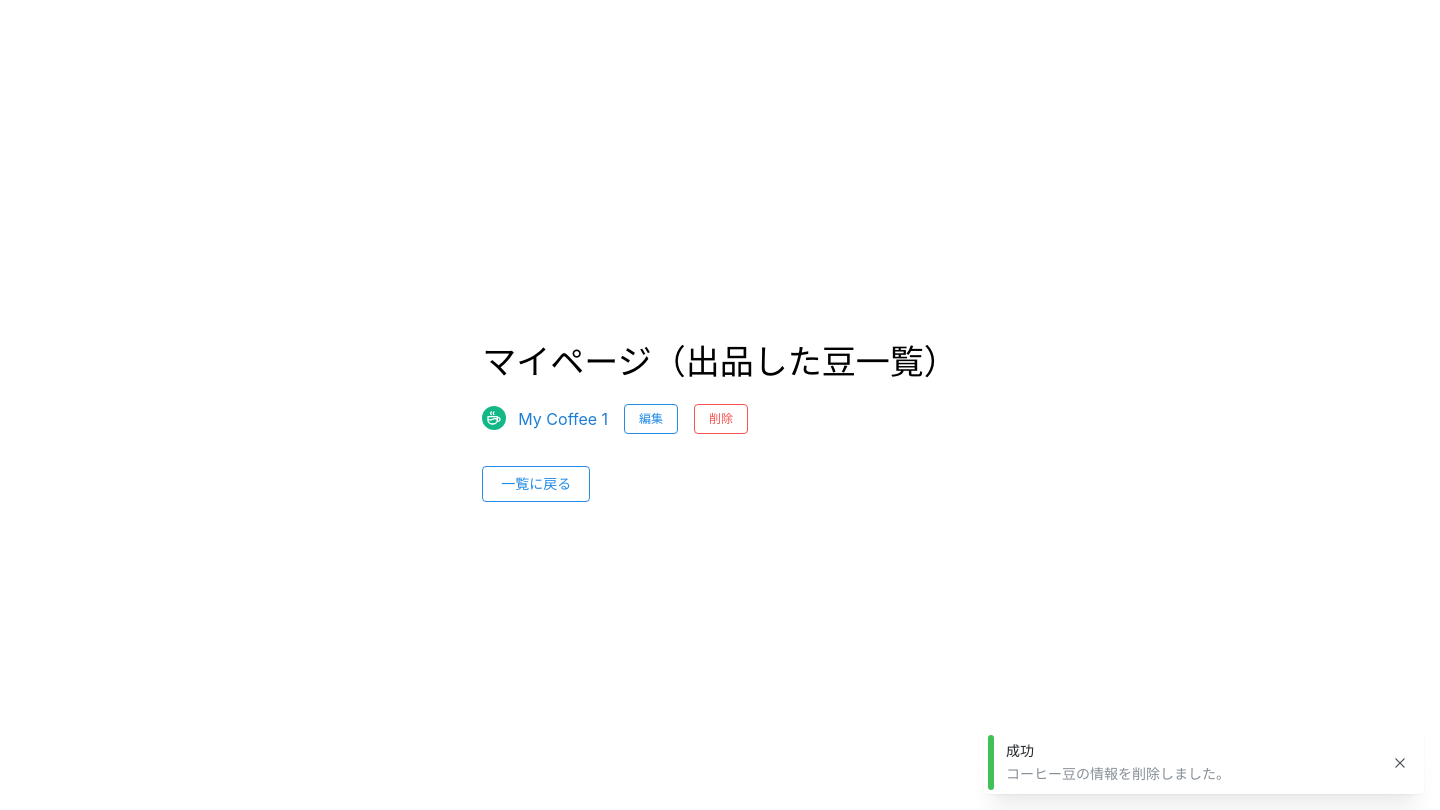
Test: MyBeansPage › 豆の削除処理が失敗し、エラー通知が表示される
Expected: the text "My Coffee 1" is shown, [518, 409, 608, 429]
# 削除ボタンをクリッ��
Click the button "削除".
click(721, 419)  # box [694, 404, 748, 434]
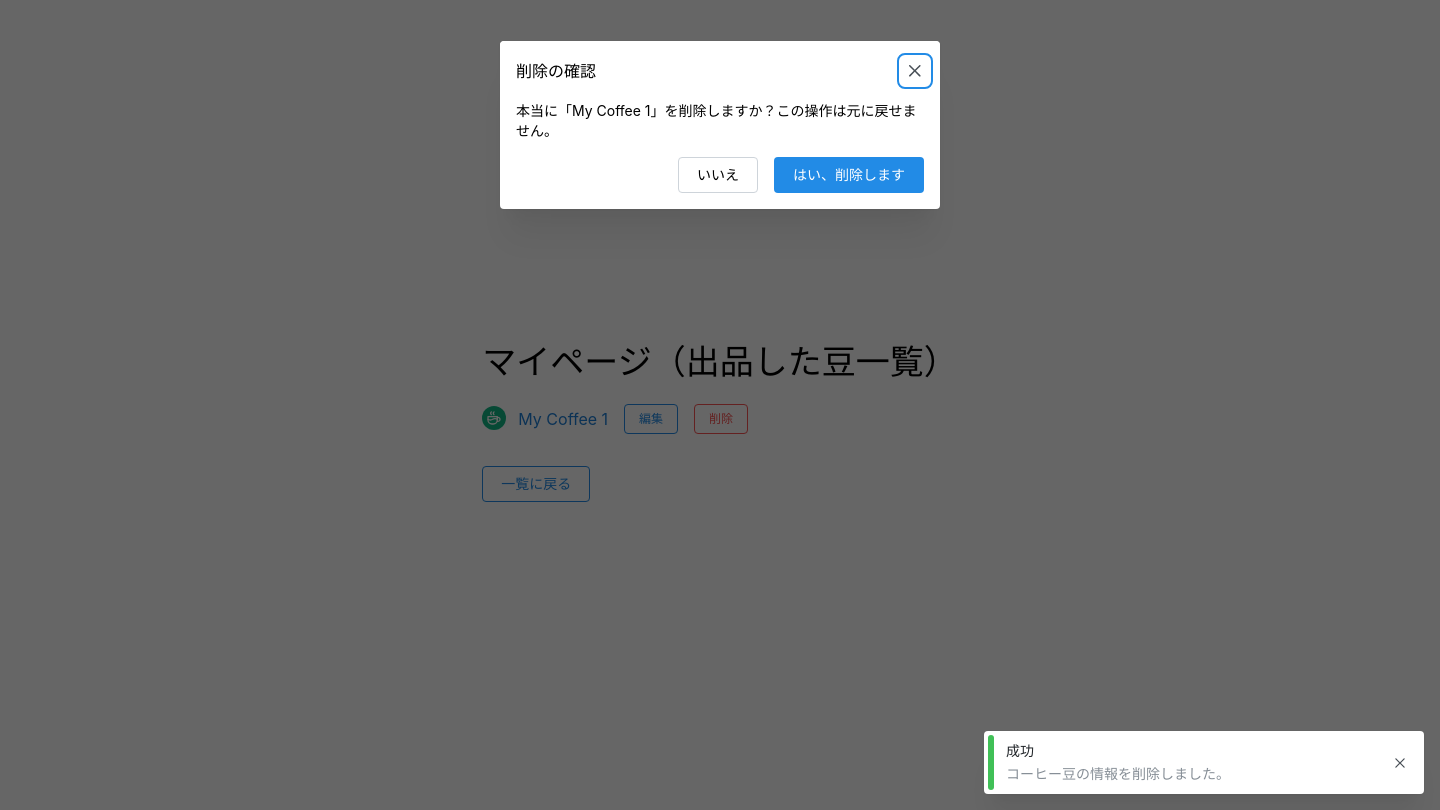
# モーダルが表示されるのを待つ
Click the button "はい、削除します".
click(849, 175)  # box [774, 157, 924, 193]
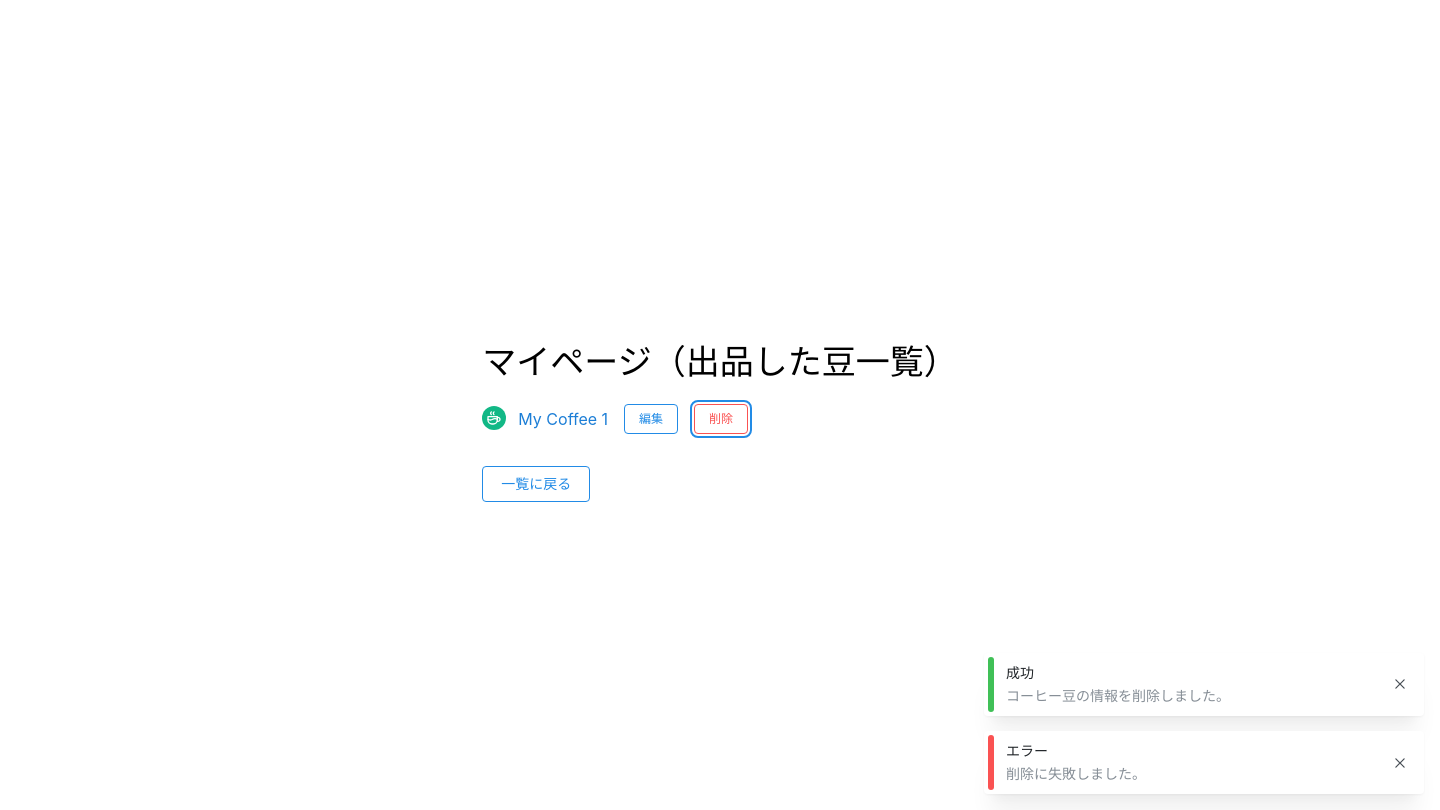
Expected: the text "My Coffee 1" is shown, [518, 409, 608, 429]
Expected: the text "エラー" is shown, [1006, 742, 1048, 759]
Expected: the text "削除に失敗しました。" is shown, [1006, 765, 1146, 782]
